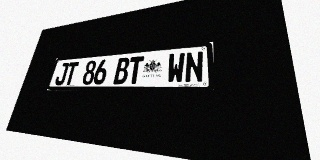6: (92, 59, 109, 85)
8: (81, 60, 98, 85)
B: (113, 57, 130, 84)
J: (54, 63, 69, 85)
N: (184, 51, 203, 83)
T: (127, 56, 144, 84), (63, 62, 79, 85)
W: (166, 52, 185, 83)
